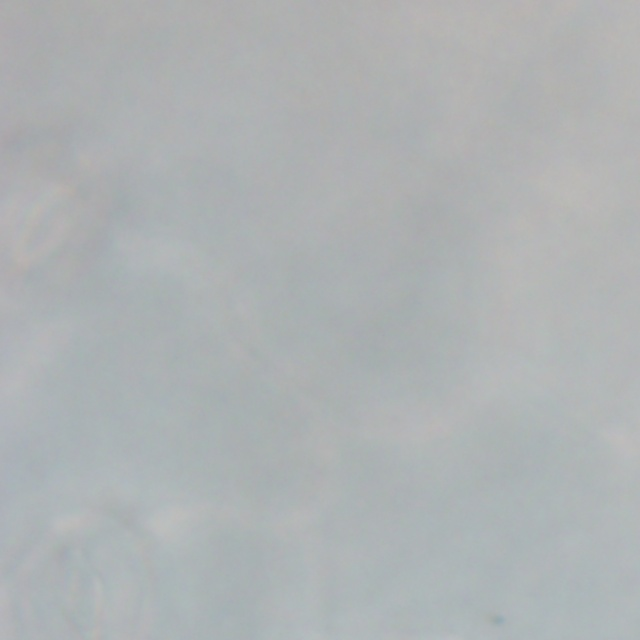center: (16, 187, 86, 268), (59, 549, 103, 637)
stomata-huw1: (0, 135, 140, 313), (12, 511, 147, 639)
